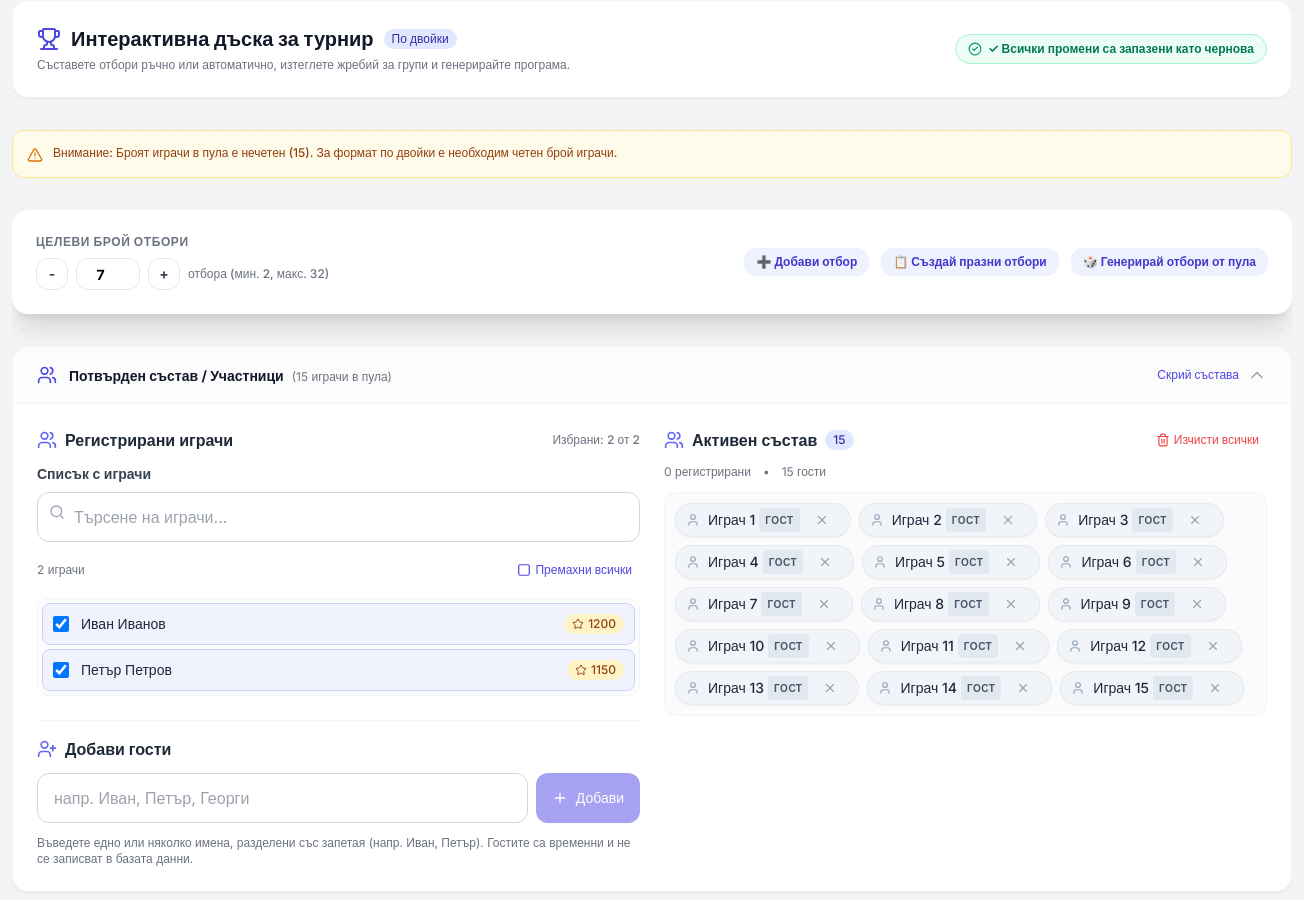
Scenario: TournamentInteractiveBoard Component › Universal Mathematical Validation & Auto-Adjustment › P = 15, T = 7 (Case 2): generates 7 full teams, shows 1 reserve banner, and groups can be drawn for 7 teams
Click the button "🎲 Генерирай отбори от пула".
click(1169, 262)  # box [1071,248,1268,276]
(page scrolled)
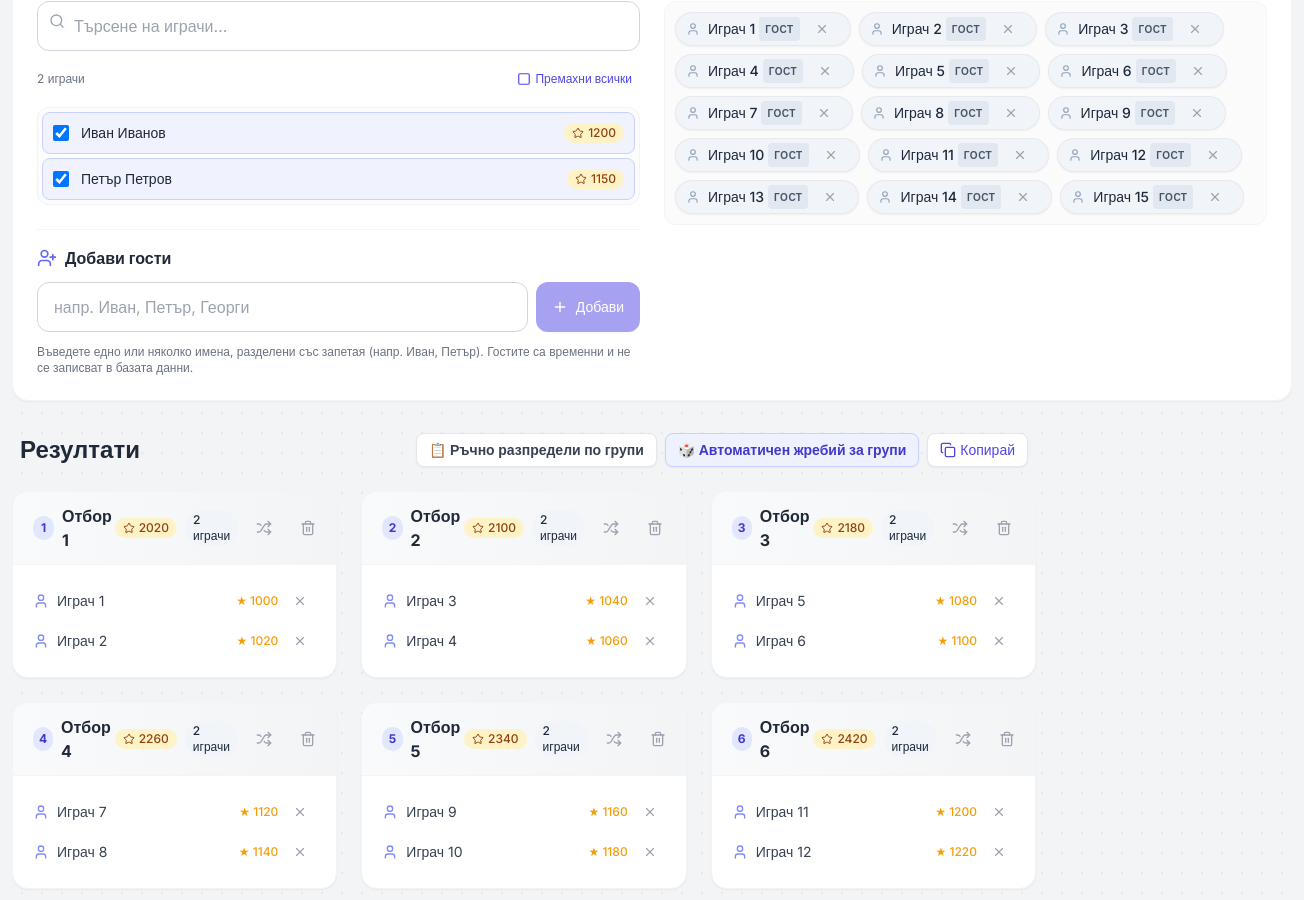
Check: the heading "1 Отбор 1" is shown, box [33,504,115,552]
Check: the button "🎲 Автоматичен жребий за групи" is enabled
Click the button "🎲 Автоматичен жребий за групи".
click(792, 450)  # box [665,433,919,467]
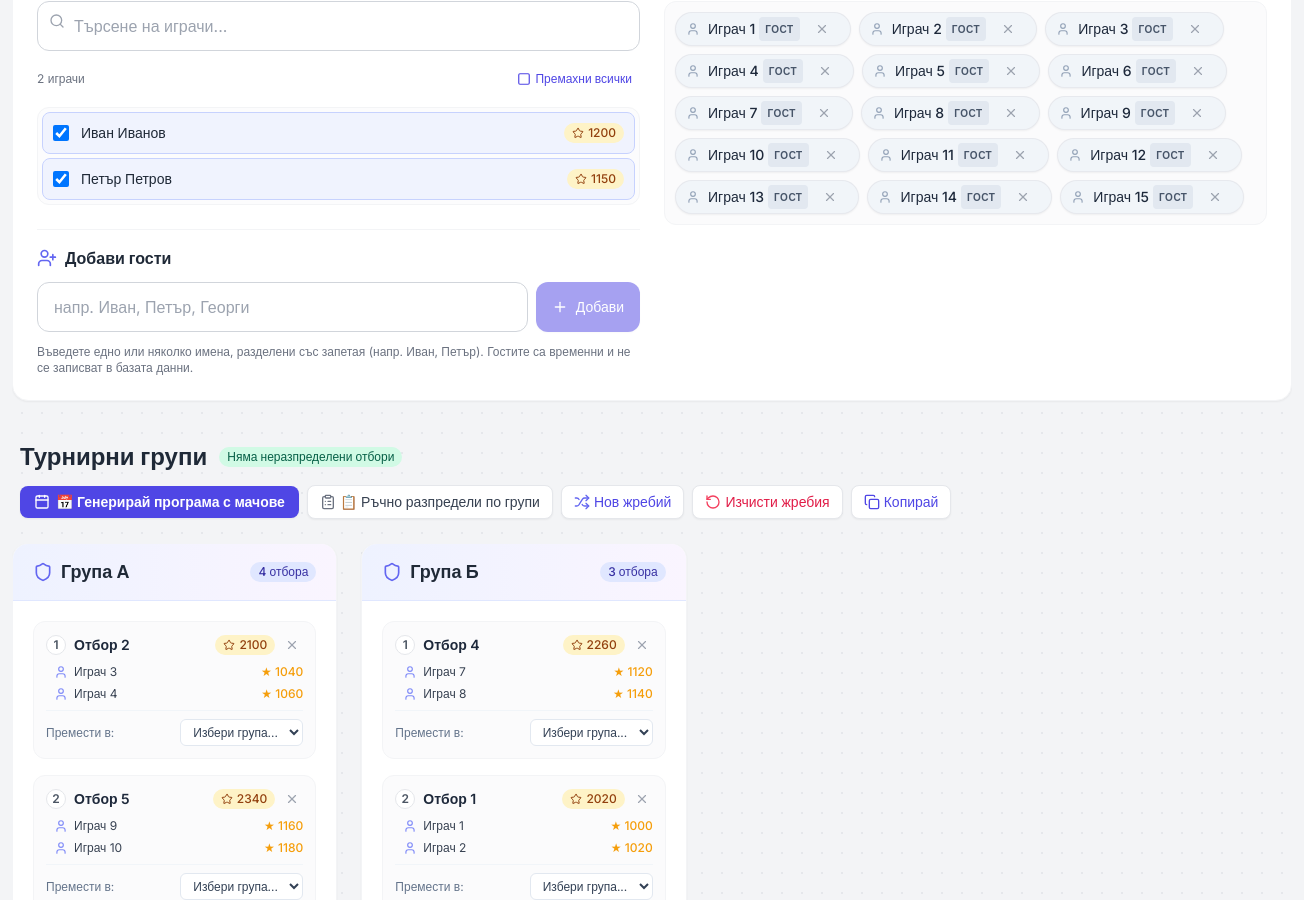
Check: the heading "Група А" is shown, box [33,558,129,586]
Check: the heading "Група Б" is shown, box [382,558,479,586]
